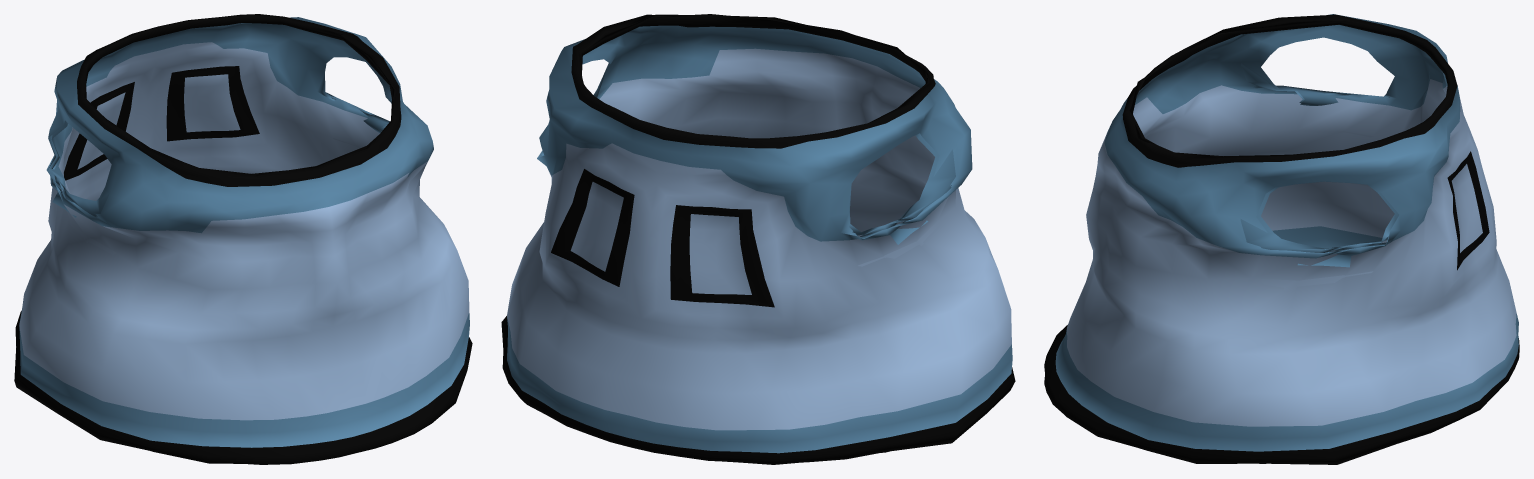
The model's file is ropa_futbol.glb.
3 renders of one model, left to right at view 1: azimuth 30°, elevation 25°; view 2: azimuth 150°, elevation 25°; view 3: azimuth 270°, elevation 25°, orthographic. The views are drawn at different scales.
Visible parts, largest first — view 1: pieza; view 2: pieza; view 3: pieza.
Part boxes in pixels (bbox=[...]): pieza: bbox=[14, 14, 472, 464]; pieza: bbox=[501, 14, 1015, 464]; pieza: bbox=[1044, 14, 1519, 464].
Size of the model in its own units: 1.02 by 0.6805 by 0.9993.
